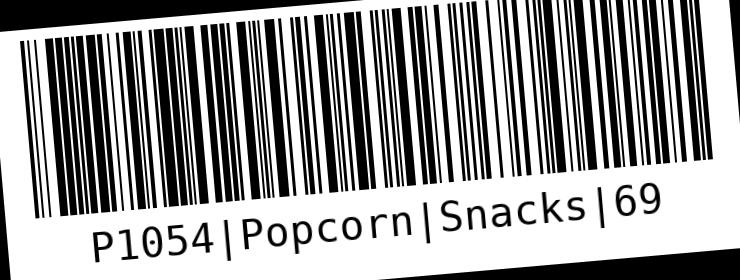milk: (10, 0, 739, 279)
